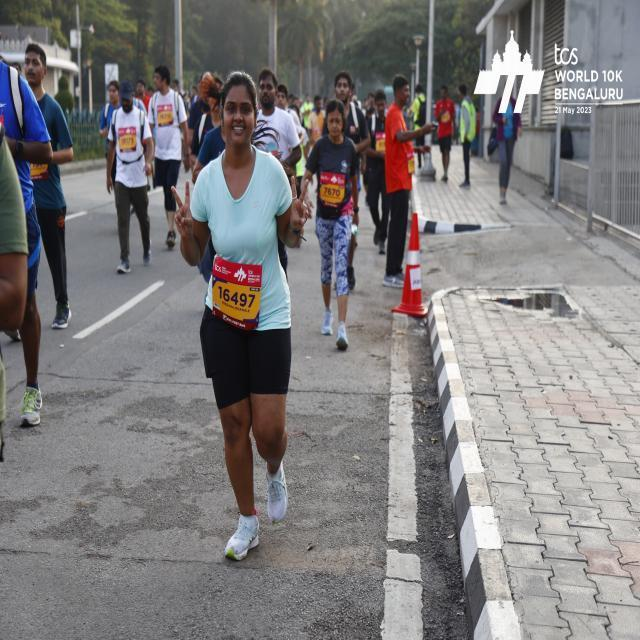dorsal: (212, 254, 260, 333), (318, 174, 348, 213)
